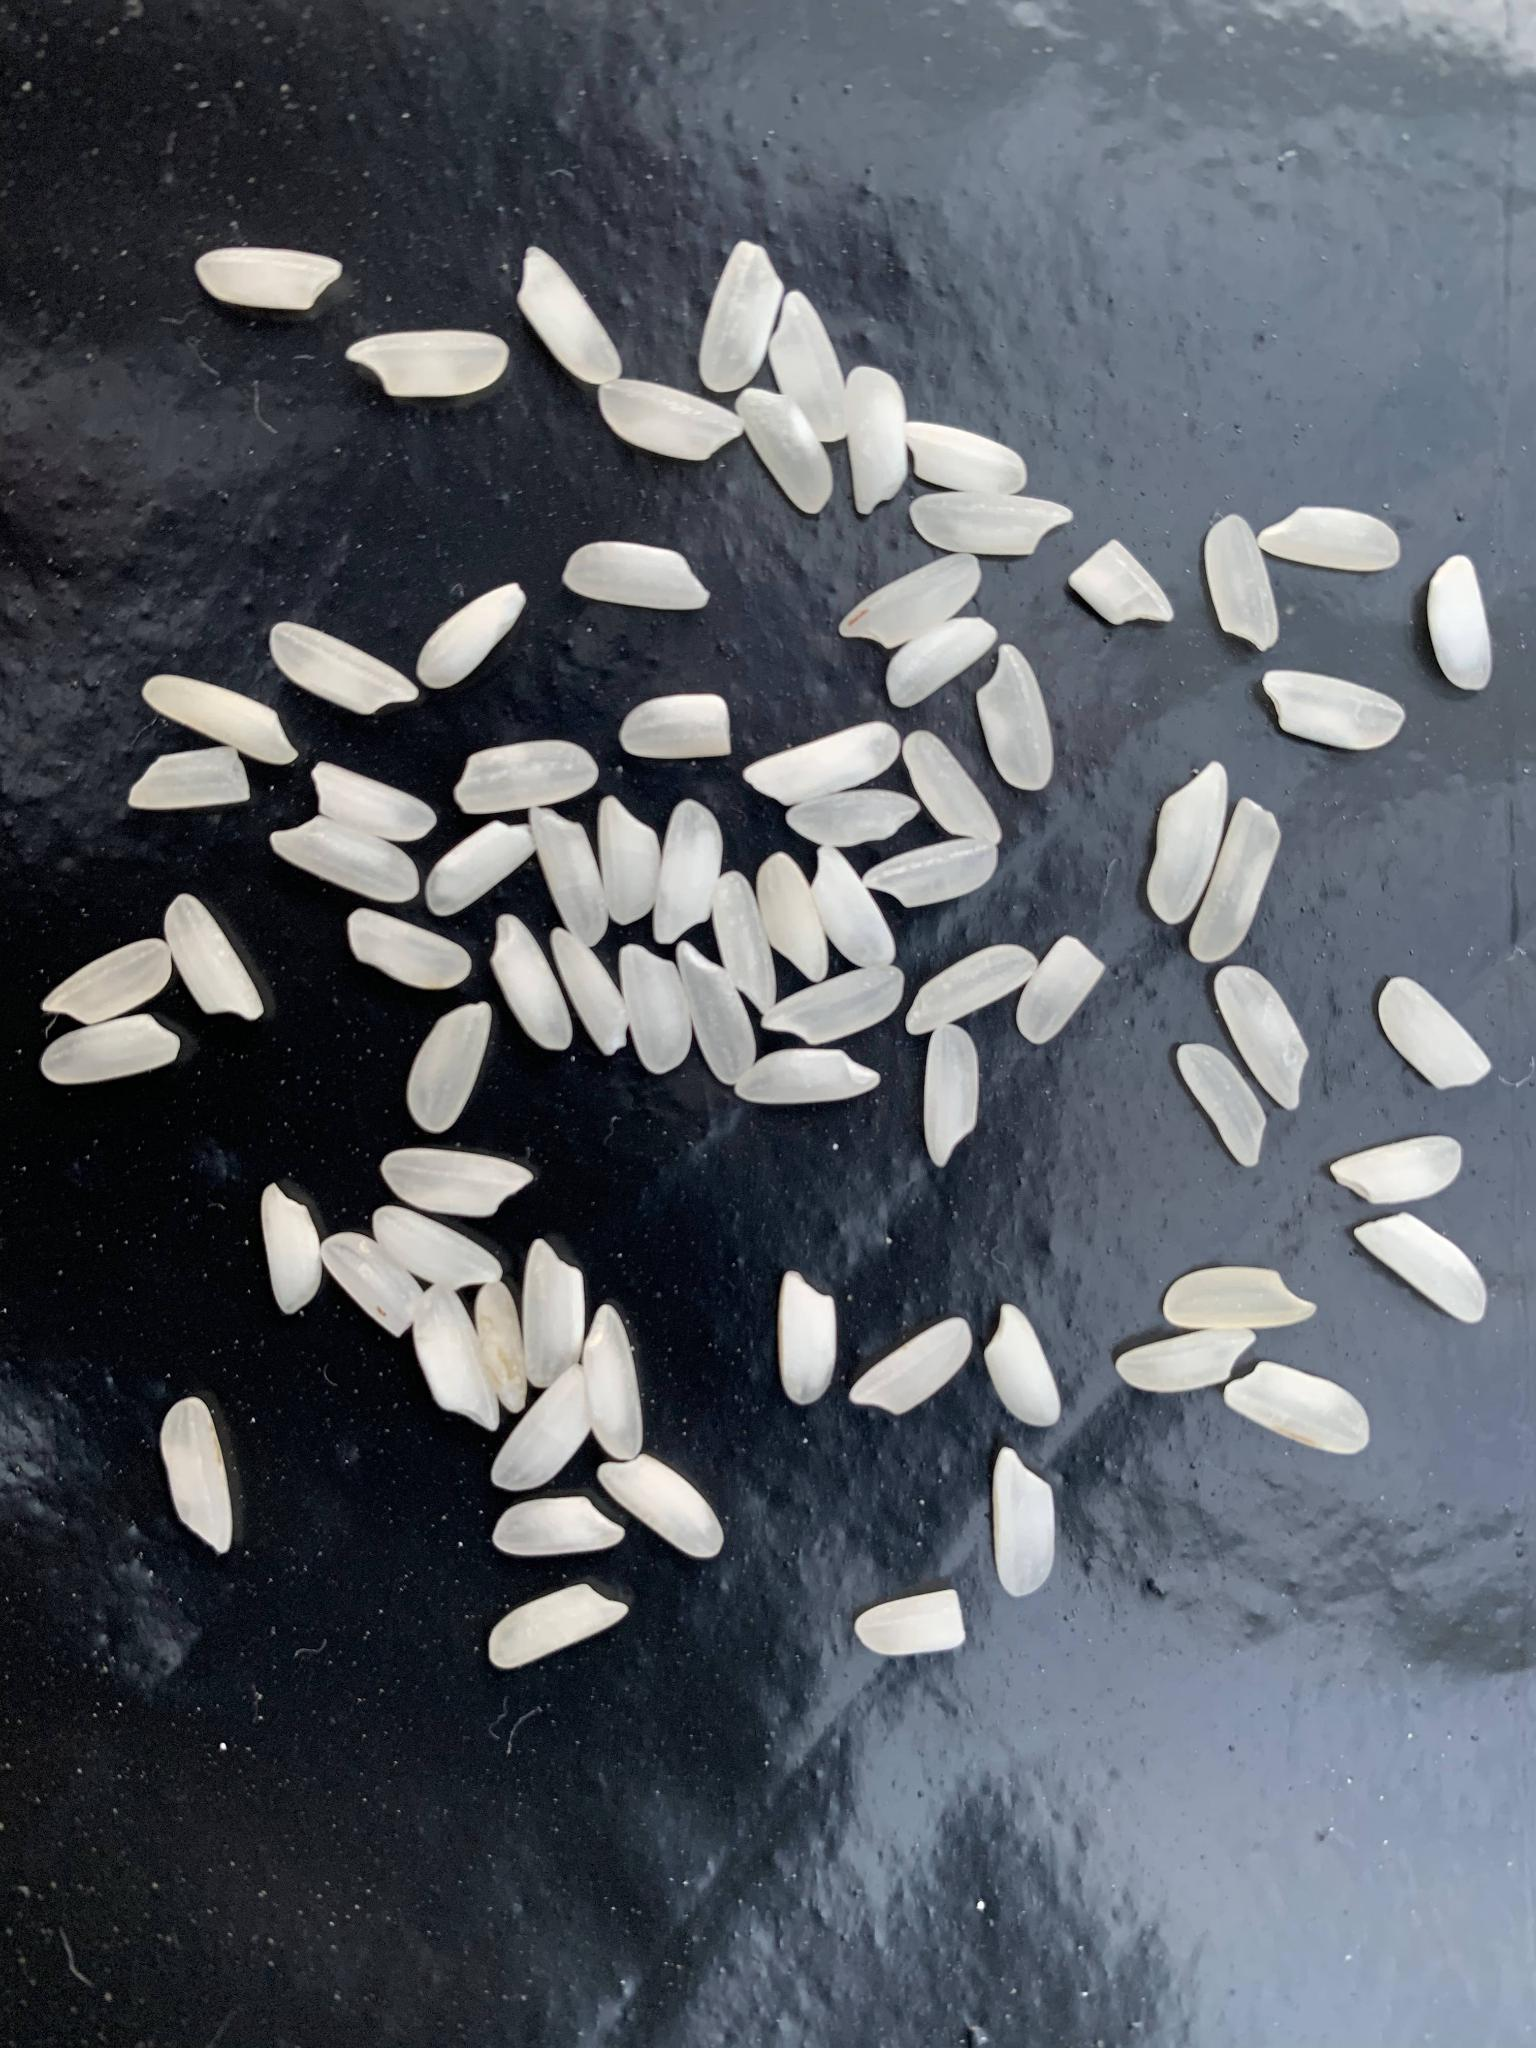rice: (1189, 798, 1283, 964), (1352, 1213, 1488, 1326), (518, 247, 624, 385), (142, 676, 298, 768), (839, 552, 983, 651), (1146, 760, 1229, 926), (741, 719, 900, 806), (1225, 1359, 1370, 1455), (269, 621, 418, 713), (595, 1455, 724, 1559), (1213, 968, 1309, 1109), (1376, 976, 1492, 1092), (165, 893, 266, 1024), (271, 816, 419, 905), (413, 1284, 500, 1434), (737, 389, 836, 516), (905, 943, 1039, 1037), (489, 1582, 632, 1669), (849, 1317, 973, 1417), (902, 729, 1007, 845), (490, 1364, 586, 1492), (770, 290, 847, 443), (975, 643, 1054, 793), (416, 582, 528, 689), (762, 964, 905, 1047), (676, 942, 758, 1085), (407, 998, 492, 1135), (160, 1395, 232, 1556), (599, 381, 744, 460), (1262, 669, 1405, 748), (490, 914, 573, 1051), (345, 331, 511, 398), (42, 939, 173, 1024), (1176, 1043, 1265, 1169), (371, 1203, 503, 1287), (531, 806, 608, 948), (453, 739, 600, 813), (378, 1148, 534, 1218), (40, 1011, 181, 1087), (1204, 514, 1281, 651), (886, 614, 1000, 706), (560, 540, 712, 610), (323, 1232, 423, 1337), (1016, 932, 1107, 1047), (810, 847, 895, 968), (550, 926, 629, 1056), (428, 822, 536, 918), (311, 761, 437, 842), (349, 910, 473, 990), (908, 495, 1075, 555), (984, 1301, 1062, 1429), (653, 798, 721, 943), (618, 943, 692, 1076), (991, 1447, 1054, 1601), (581, 1305, 644, 1459), (1163, 1268, 1317, 1330), (863, 839, 999, 910), (1066, 540, 1176, 627), (523, 1238, 587, 1385), (847, 368, 910, 518), (194, 247, 344, 310), (905, 419, 1029, 495), (1428, 555, 1496, 693), (1331, 1134, 1463, 1205), (758, 853, 829, 984), (1115, 1329, 1257, 1393), (713, 871, 776, 1014), (1258, 508, 1400, 569), (921, 1022, 979, 1168), (492, 1496, 626, 1558), (599, 795, 660, 926), (261, 1182, 321, 1314), (786, 790, 921, 848), (733, 1050, 881, 1101), (854, 1588, 966, 1656), (779, 1271, 836, 1406), (127, 747, 252, 806), (474, 1280, 528, 1413), (620, 693, 731, 756)
